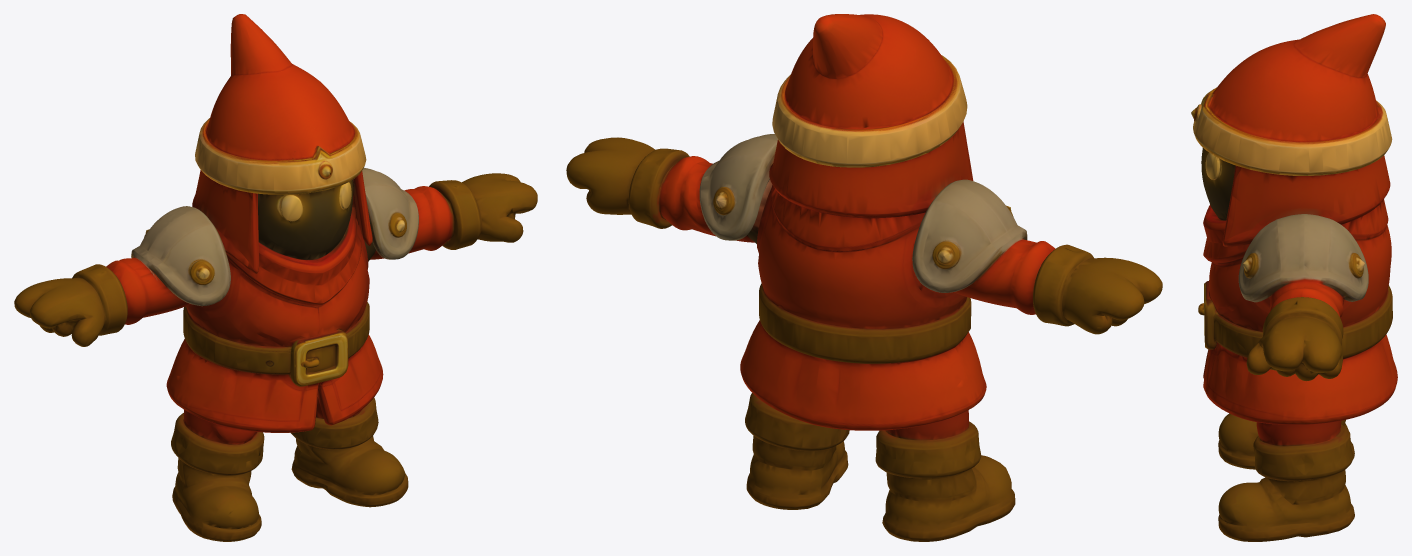
Rendered from minion_tank_red_old.fbx.
3 views of the same model, side by side, from view 1: azimuth 30°, elevation 25°; view 2: azimuth 150°, elevation 25°; view 3: azimuth 270°, elevation 25° (orthographic). The views are drawn at different scales.
Visible parts, largest first — view 1: material; view 2: material; view 3: material.
Part boxes in pixels (box(x1,y1,x2,y2)): material: box(14, 14, 537, 541); material: box(566, 14, 1162, 541); material: box(1191, 14, 1397, 541).
Bounding box in the file's own units: 119 × 103 × 40.55.
Materials: 1 (1 with a texture image).
